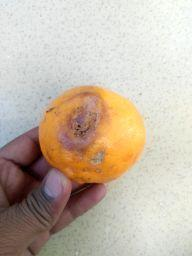orange: (37, 84, 147, 185)
